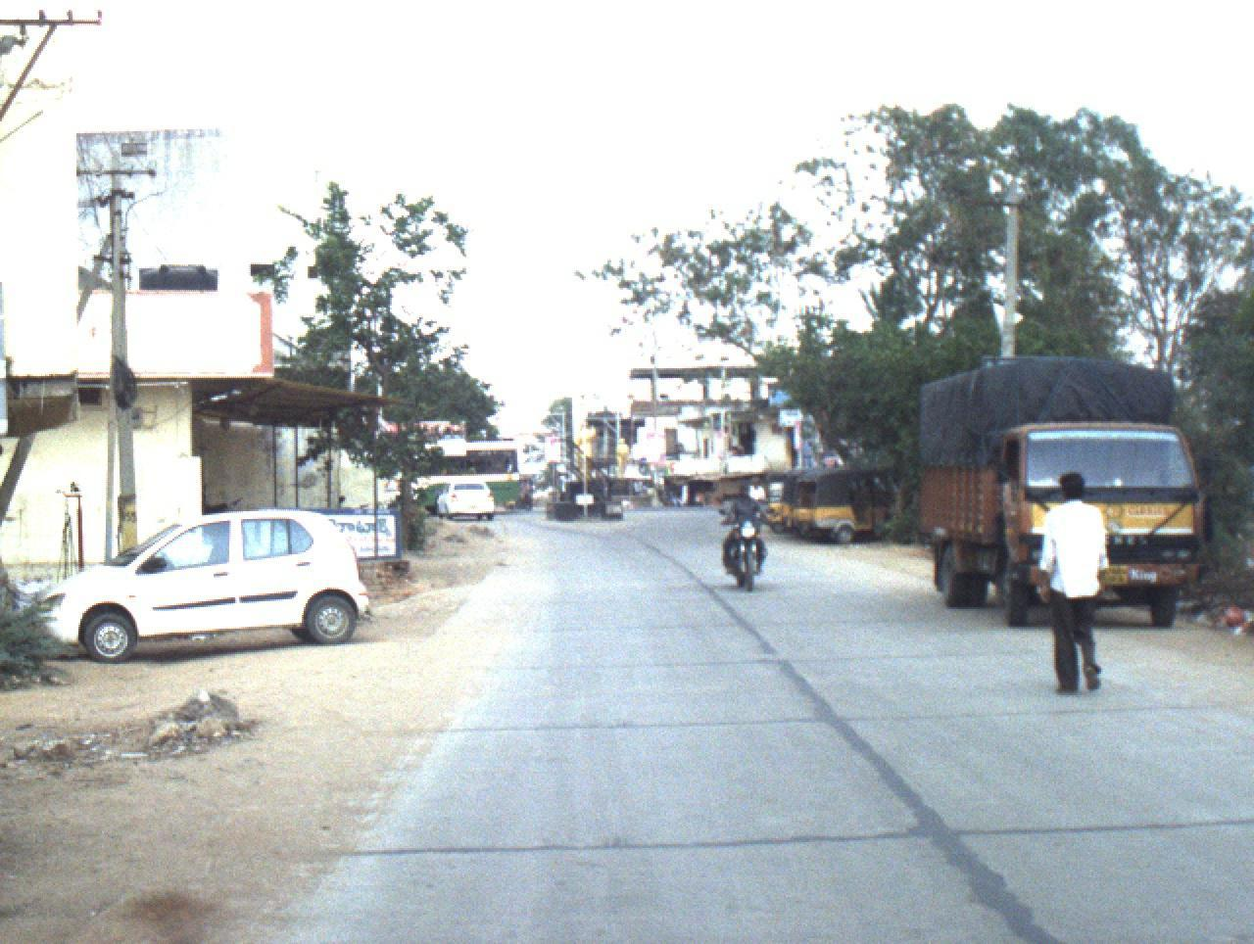streetlight: (109, 189, 166, 248)
